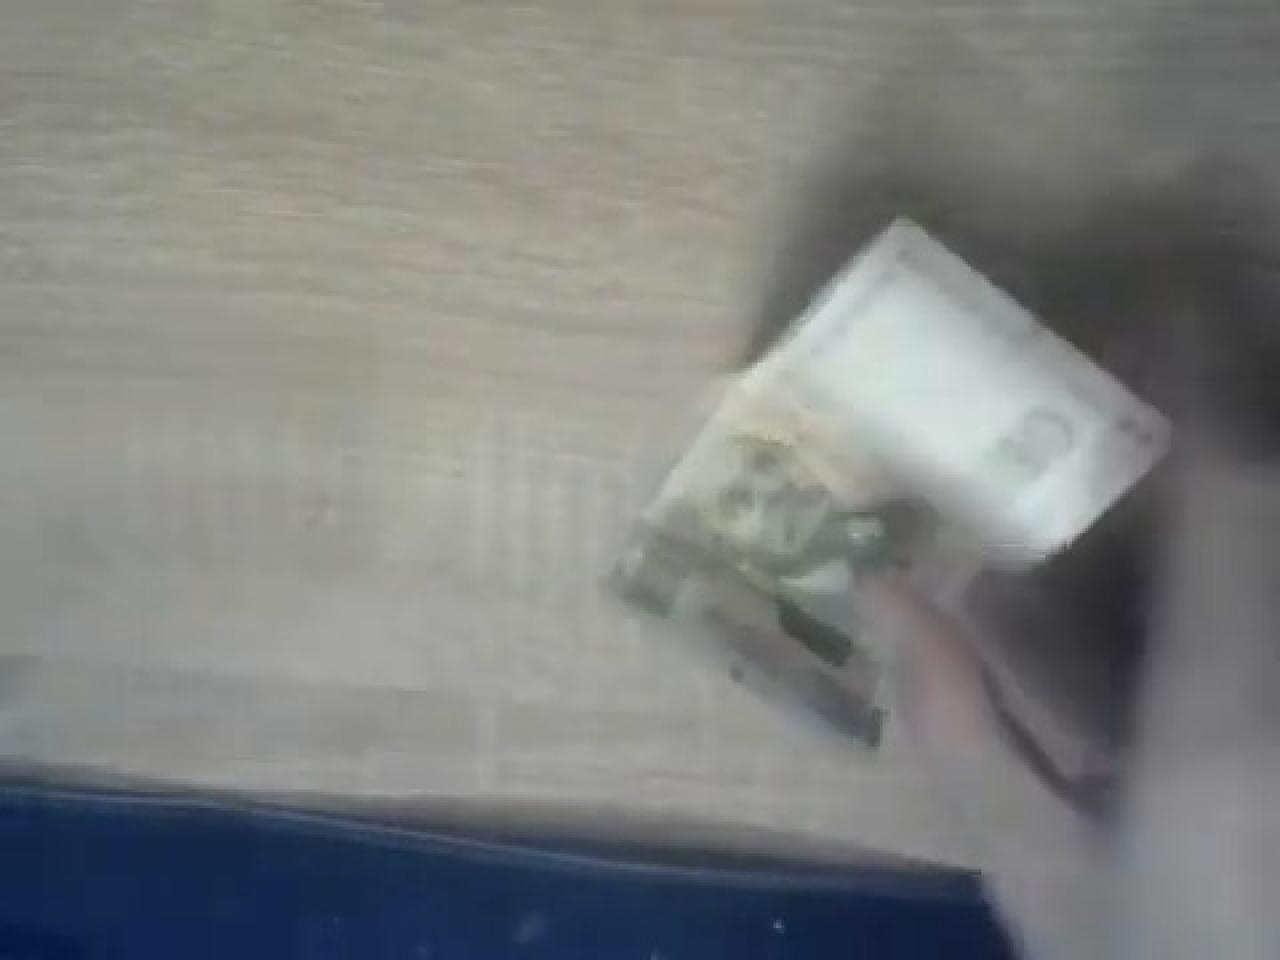10leva: (614, 208, 1176, 746)
